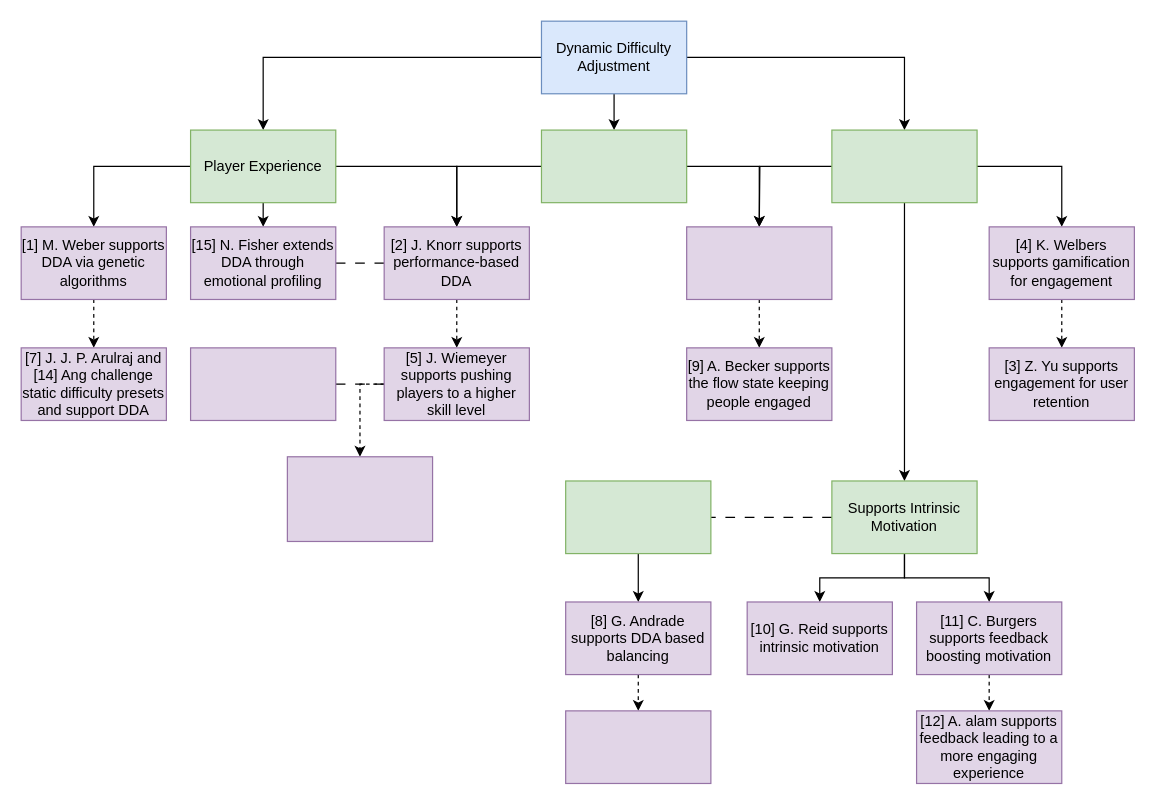
This 1156x805 diagram has some shape labels left out. The box of each missing label's shape, as (x1, y1, x2, y2) in pixels:
[13] M. Zohaib supports masking DDA through design: (564, 710, 711, 783)
[16] J. Hagelback supports giving challenging experiences to overcome: (286, 456, 433, 541)
[17] A. Schutt supports DDA for raising the player skill level: (189, 347, 336, 420)
[6] M. Csikzentmihalyi supports psychological flow state theory: (685, 226, 832, 299)
Adaptation: (564, 480, 711, 554)
Engagement & Motivation: (831, 129, 977, 203)
Flow State: (540, 129, 687, 203)
